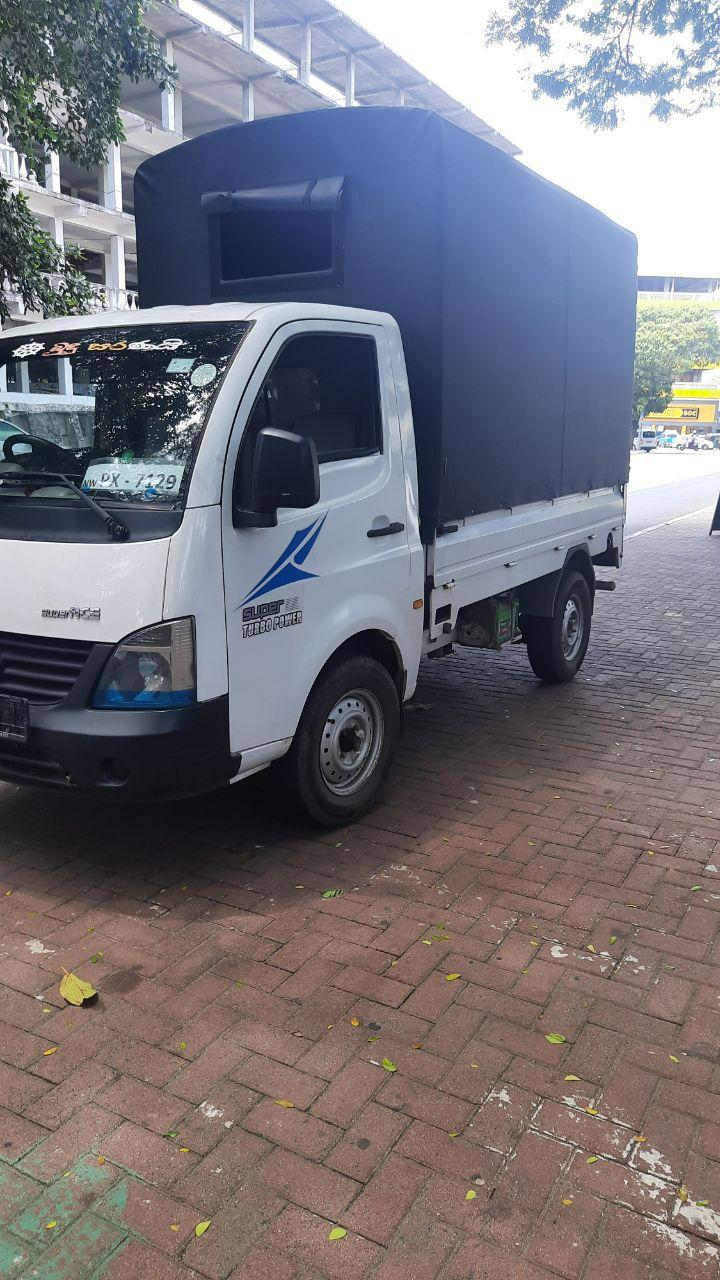truck: (1, 104, 637, 829)
